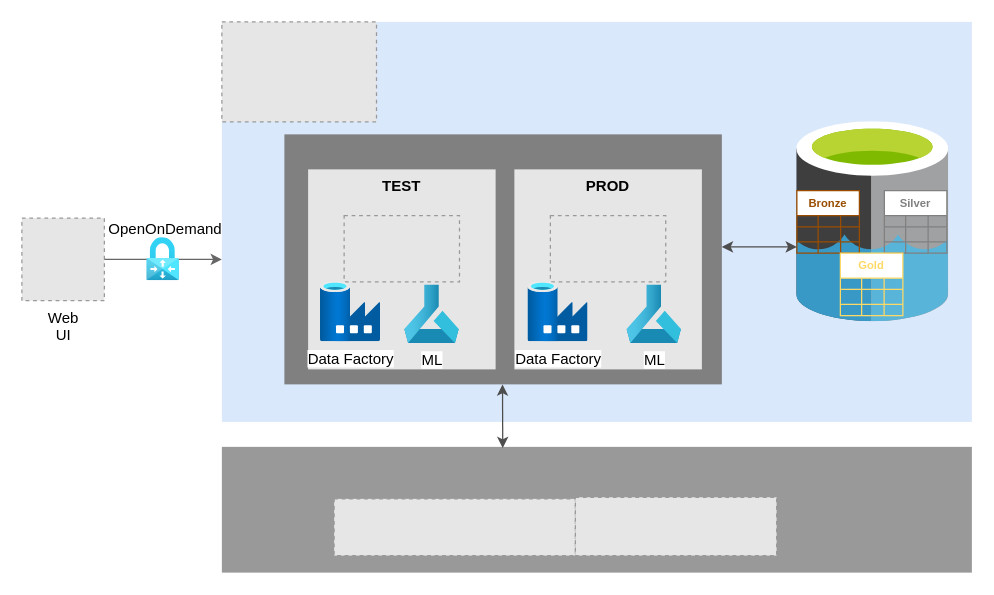
Image size: 994x595. Some labels were removed from this diagram. Grey dashed boxes stand in for pictures. The box of each missing label's shape, as (x1, y1, x2, y2) in pixels:
AI Cluster: (284, 134, 721, 384)
Data Lake: (796, 121, 948, 321)
External Cardata: (221, 446, 971, 572)
Gateway: (146, 237, 179, 280)
